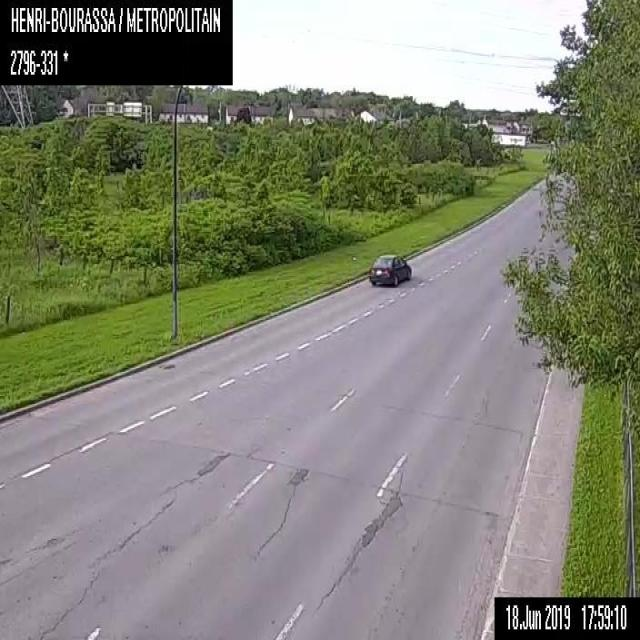vehicle: (369, 252, 410, 286)
